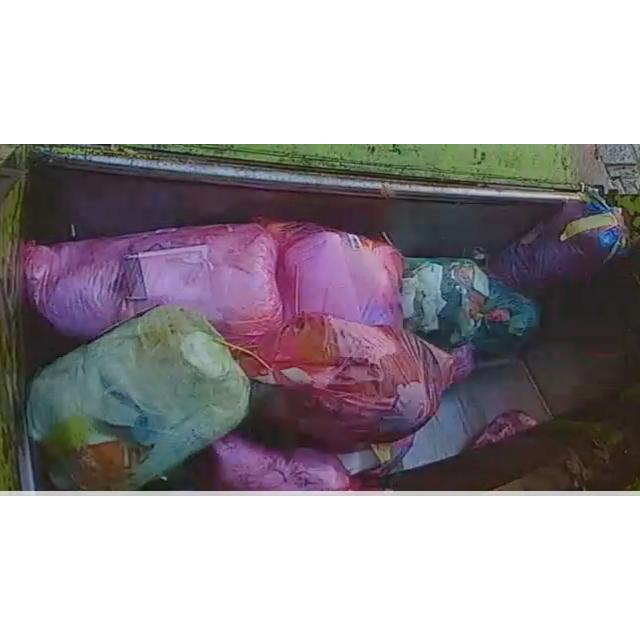general_trashbag: (26, 306, 250, 491), (490, 194, 625, 288), (401, 258, 490, 349), (472, 280, 539, 356)
other_trashbag: (245, 314, 474, 454), (24, 223, 282, 345), (261, 222, 402, 328)
